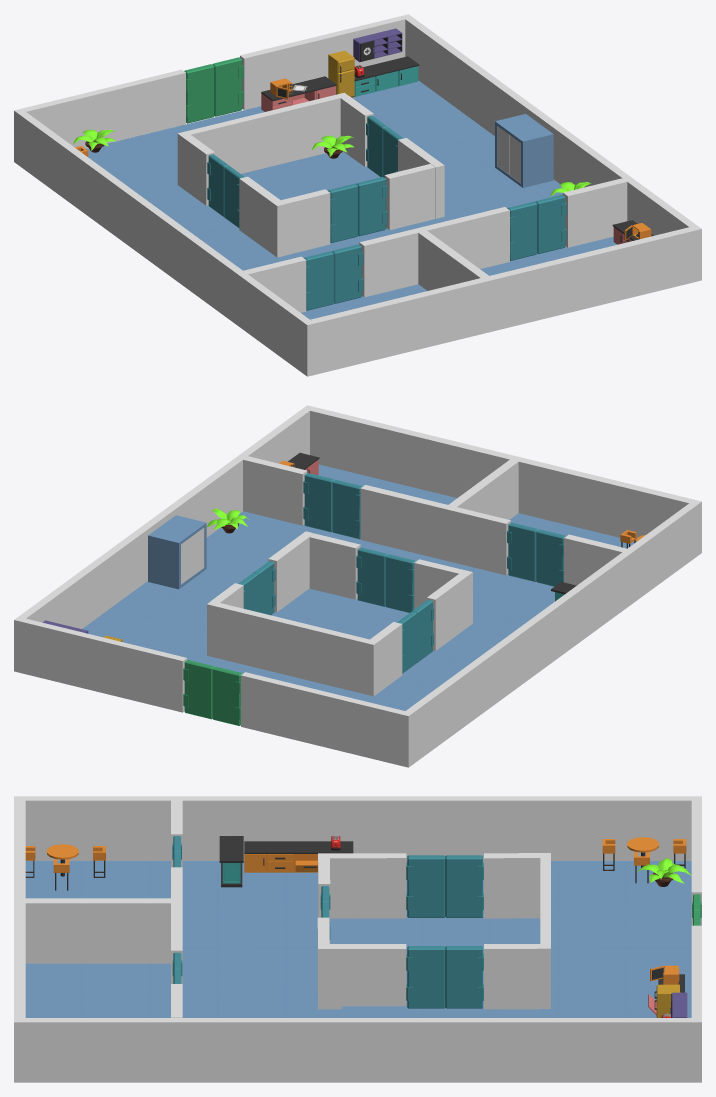
The model's file is maps_06.fbx.
3 renders of one model, top to bottom at view 1: azimuth 30°, elevation 25°; view 2: azimuth 150°, elevation 25°; view 3: azimuth 270°, elevation 25°, orthographic. The views are drawn at different scales.
Parts seen in each view (by area): view 1: frames_13_geo, frames_06_geo, frames_03_geo, frames_04_geo, polySurface6 (×5), frames_10_geo, frames_12_geo, polySurface2 (×5), frames_08_geo, frames_11_geo, frames_07_geo, frames_16_geo (+14 smaller); view 2: frames_13_geo, frames_06_geo, frames_03_geo, frames_04_geo, frames_10_geo, frames_11_geo, frames_12_geo, frames_08_geo, polySurface2 (×5), polySurface6 (×5), frames_07_geo, frames_16_geo (+10 smaller); view 3: frames_13_geo, frames_04_geo, frames_03_geo, frames_01_geo, frames_09_geo, frames_14_geo, frames_02_geo, frames_17_geo, polySurface99, frames_06_geo, polySurface2, polySurface170 (+14 smaller).
Part boxes in pixels (x1=…): frames_13_geo: x1=86, y1=80, x2=616, y2=319; frames_06_geo: x1=310, y1=227, x2=694, y2=374; frames_03_geo: x1=14, y1=108, x2=314, y2=376; frames_04_geo: x1=401, y1=14, x2=701, y2=282; polySurface6 (×5): x1=212, y1=57, x2=566, y2=303; frames_10_geo: x1=177, y1=92, x2=348, y2=187; frames_12_geo: x1=22, y1=69, x2=185, y2=148; polySurface2 (×5): x1=184, y1=64, x2=537, y2=310; frames_08_geo: x1=359, y1=207, x2=509, y2=297; frames_11_geo: x1=240, y1=16, x2=405, y2=109; frames_07_geo: x1=563, y1=178, x2=627, y2=247; frames_16_geo: x1=384, y1=164, x2=435, y2=230; frames_13_geo: x1=82, y1=464, x2=635, y2=710; frames_06_geo: x1=310, y1=407, x2=693, y2=541; frames_03_geo: x1=401, y1=499, x2=701, y2=767; frames_04_geo: x1=14, y1=405, x2=314, y2=673; frames_10_geo: x1=207, y1=601, x2=378, y2=696; frames_11_geo: x1=21, y1=618, x2=187, y2=712; frames_12_geo: x1=241, y1=672, x2=404, y2=765; frames_08_geo: x1=360, y1=485, x2=510, y2=575; polySurface2 (×5): x1=212, y1=480, x2=565, y2=725; polySurface6 (×5): x1=183, y1=473, x2=538, y2=719; frames_07_geo: x1=243, y1=456, x2=307, y2=525; frames_16_geo: x1=309, y1=533, x2=360, y2=599; frames_13_geo: x1=25, y1=861, x2=691, y2=1017; frames_04_geo: x1=14, y1=1018, x2=701, y2=1082; frames_03_geo: x1=14, y1=796, x2=701, y2=860; frames_01_geo: x1=25, y1=898, x2=171, y2=963; frames_09_geo: x1=318, y1=944, x2=406, y2=1009; frames_14_geo: x1=318, y1=853, x2=406, y2=918; frames_02_geo: x1=484, y1=944, x2=540, y2=1009; frames_17_geo: x1=484, y1=853, x2=540, y2=918; polySurface99: x1=244, y1=841, x2=353, y2=872; frames_06_geo: x1=14, y1=800, x2=25, y2=1017; polySurface2: x1=406, y1=946, x2=445, y2=1008; polySurface170: x1=406, y1=855, x2=445, y2=917.
Size of what is drawn, in the model's own units: 71.19 by 9.21 by 91.67.
10 materials, 10 textured.
